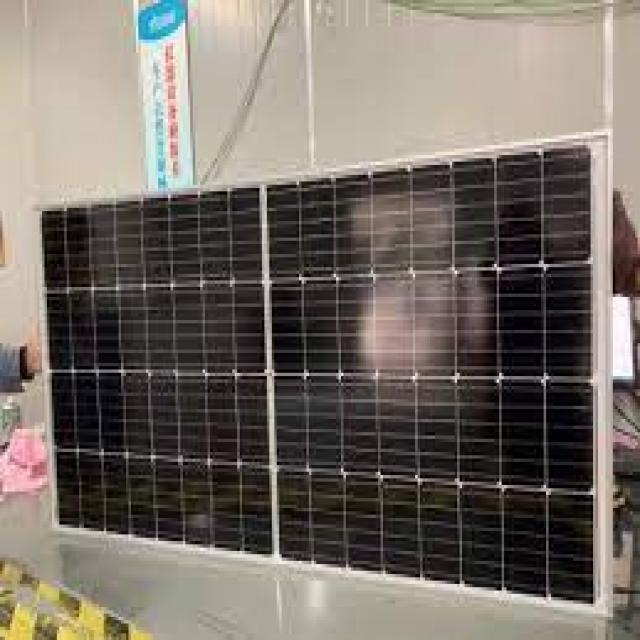no faulty: (266, 157, 616, 589), (36, 212, 270, 545)
